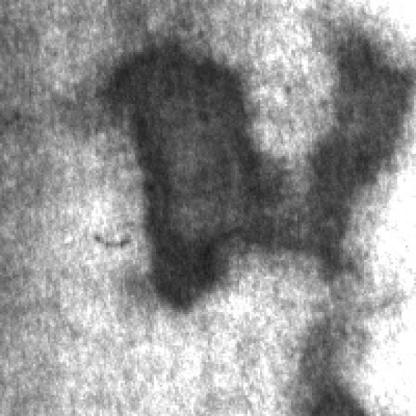patches: (100, 54, 278, 322), (287, 40, 412, 293), (292, 318, 376, 416)
